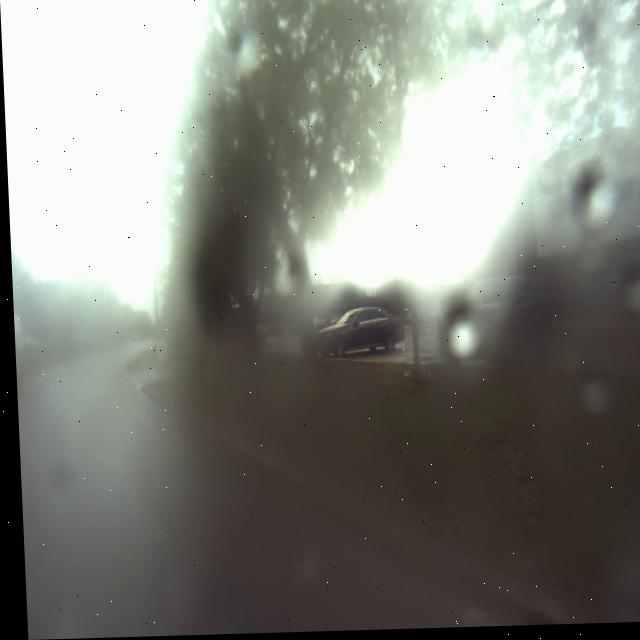car: (11, 311, 25, 401)
